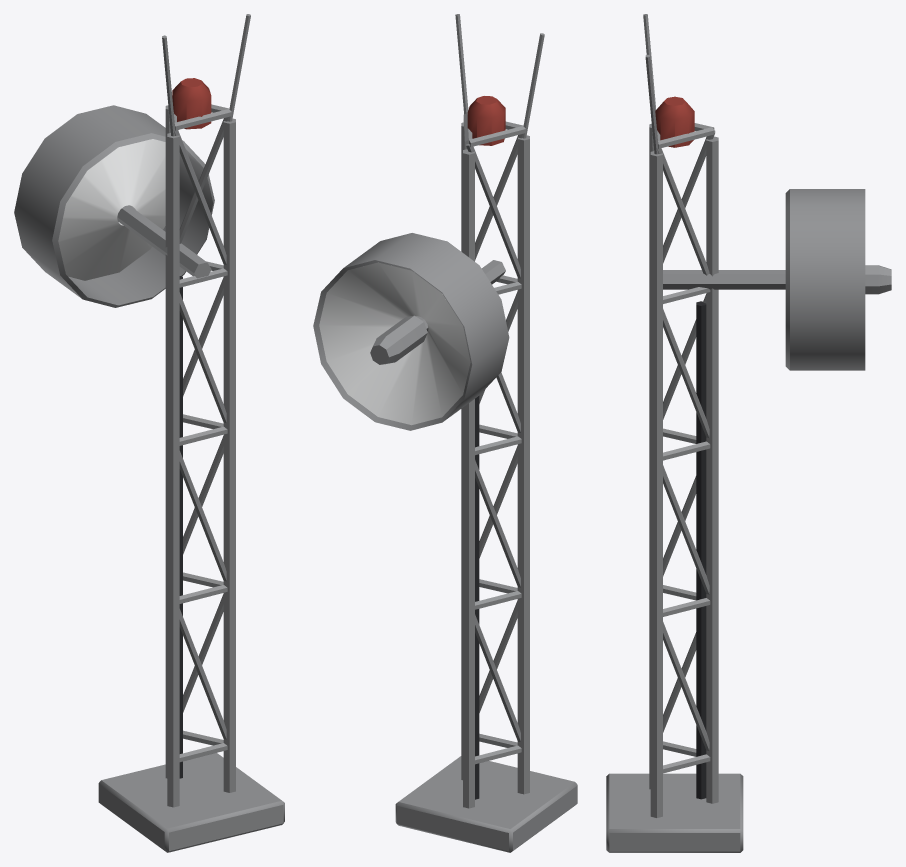
Rendered from prop_antenna.glb.
3 views of the same model, side by side, from view 1: azimuth 30°, elevation 25°; view 2: azimuth 150°, elevation 25°; view 3: azimuth 270°, elevation 25° (orthographic). The views are drawn at different scales.
Parts seen in each view (by area): view 1: prop_antenna; view 2: prop_antenna; view 3: prop_antenna.
Part boxes in pixels (bbox=[...]): prop_antenna: bbox=[14, 14, 284, 852]; prop_antenna: bbox=[313, 14, 577, 852]; prop_antenna: bbox=[606, 14, 891, 852].
Size of what is drawn, in the model's own units: 0.8399 by 3.94 by 1.29.
